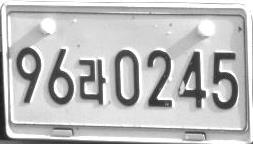0: (113, 49, 139, 107)
2: (146, 49, 172, 109)
4: (177, 50, 206, 108)
5: (211, 52, 238, 110)
6: (47, 48, 74, 105)
9: (15, 46, 41, 103)
라: (78, 58, 106, 105)
